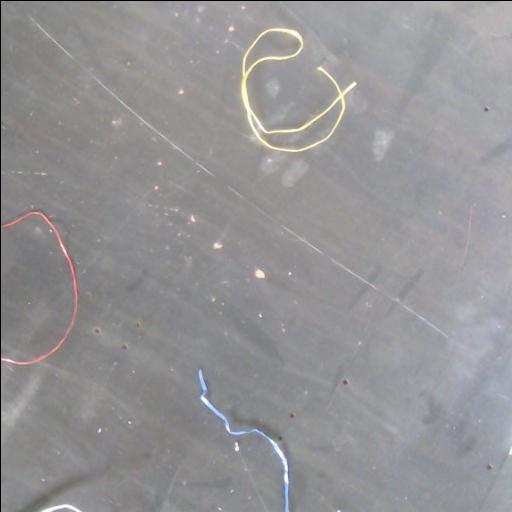conveyor belt: (1, 1, 512, 512), (1, 218, 71, 356)
thread: (241, 27, 355, 152), (199, 369, 289, 512), (1, 209, 78, 364), (38, 503, 82, 512)
